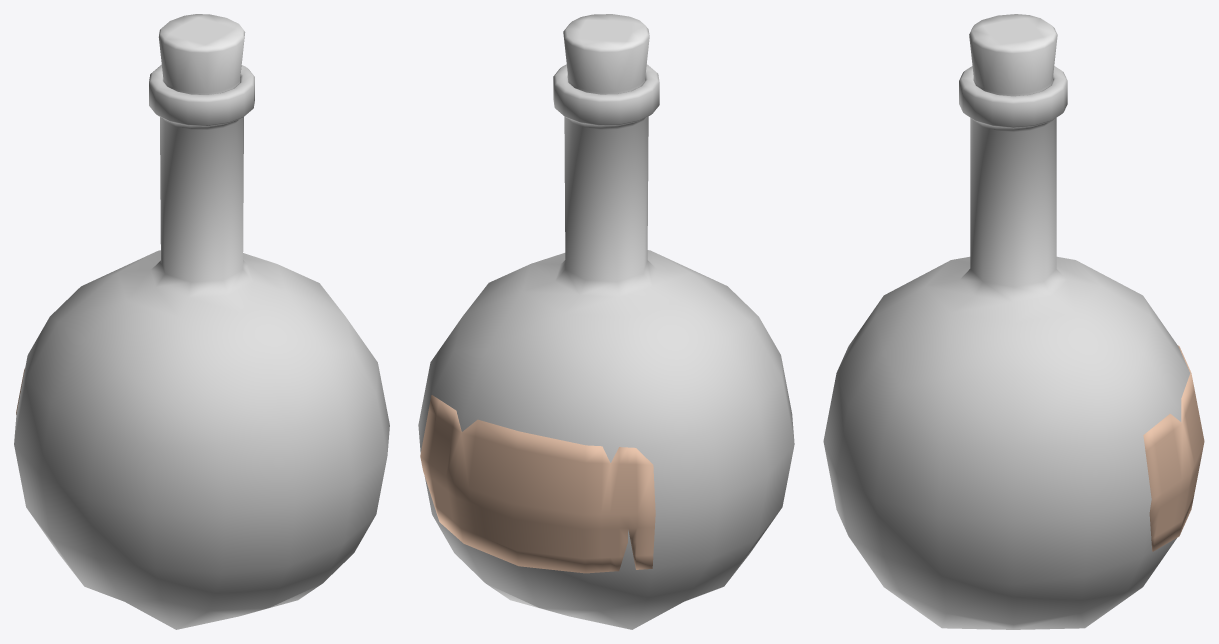
Rendered from Potion1.fbx.
3 views of the same model, side by side, from view 1: azimuth 30°, elevation 25°; view 2: azimuth 150°, elevation 25°; view 3: azimuth 270°, elevation 25° (orthographic).
Parts seen in each view (by area): view 1: Potion1; view 2: Potion1; view 3: Potion1.
Boxes of the visible parts, x1,y1,x2,y2 form: Potion1: (14,14,389,629); Potion1: (418,14,794,629); Potion1: (823,14,1204,629).
Bounding box in the file's own units: 1.05 × 1.73 × 1.05.
